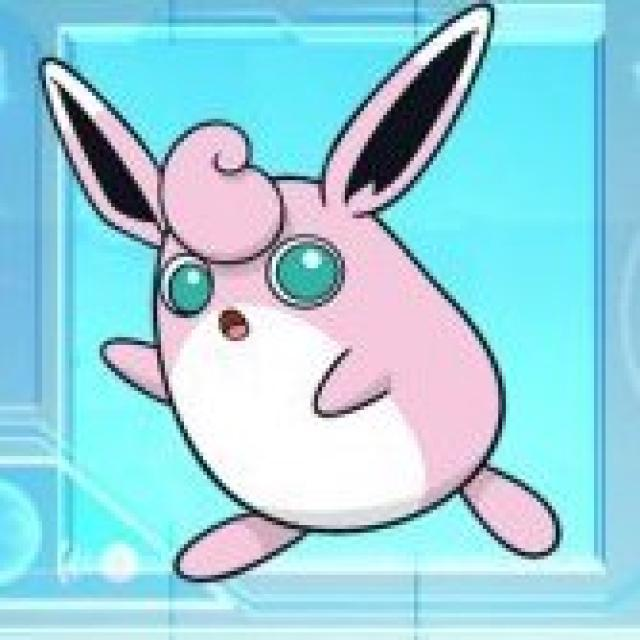Wigglytuff: (106, 75, 514, 537)
